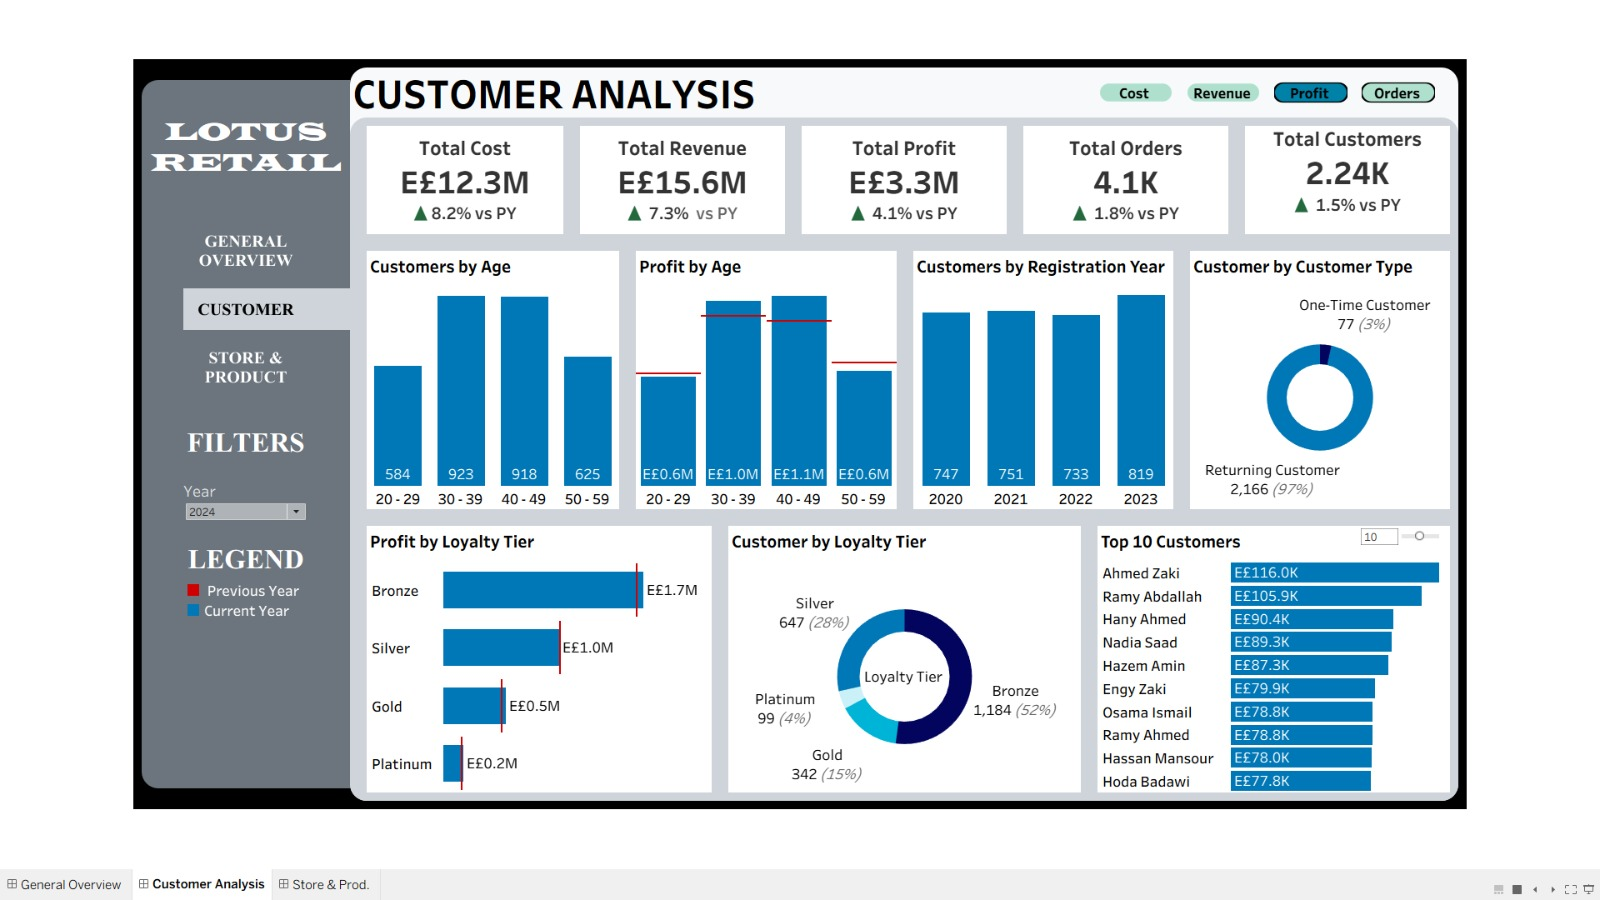

This screenshot's page, from the dashboard's own definition file:
{"tool":"tableau","page":{"name":"Customer Analysis","canvas":[1600,900],"ordinal":0},"visuals":[{"type":"text","box":[260,10,890,60]},{"type":"worksheet","title":"Buttons","mark":"Shape","cols":["Calculation_0874970443321350","Calculation_0874970443321350","Calculation_0874970443321350","Calculation_0874970443321350"],"box":[1150,10,420,60]},{"type":"blank","box":[10,25,250,10]},{"type":"text","box":[10,35,250,140]},{"type":"worksheet","title":"Cost","mark":"Automatic","box":[280,80,236,130]},{"type":"worksheet","title":"Rev.","mark":"Automatic","box":[536,80,246,130]},{"type":"worksheet","title":"Profit","mark":"Automatic","box":[802,80,246,130]},{"type":"worksheet","title":"Orders","mark":"Automatic","box":[1068,80,246,130]},{"type":"worksheet","title":"Total Customers","mark":"Automatic","box":[1334,80,246,130]},{"type":"blank","box":[10,175,250,30]},{"type":"dashboard-object","box":[60,205,150,50]},{"type":"worksheet","title":"Cus by Age","mark":"Automatic","rows":["customer_id"],"cols":["Age (bin)"],"box":[280,230,303,310]},{"type":"worksheet","title":"Age","mark":"Automatic","rows":["Calculation_0373592491970560","Calculation_0373592493252610"],"cols":["Age (bin)"],"box":[603,230,313,310]},{"type":"worksheet","title":"Customer Join Date","mark":"Bar","rows":["customer_id"],"cols":["registration_date"],"box":[936,230,312,310]},{"type":"worksheet","title":"Customer Type","mark":"Pie","cols":["Calculation_1225439418195977","Calculation_1225439418195977"],"box":[1268,230,312,310]},{"type":"blank","box":[10,255,250,20]},{"type":"dashboard-object","box":[60,275,200,50]},{"type":"blank","box":[10,325,250,20]},{"type":"dashboard-object","box":[60,345,150,50]},{"type":"blank","box":[10,395,250,50]},{"type":"text","box":[10,445,250,30]},{"type":"blank","box":[10,475,250,30]},{"type":"parameter","param":"[Parameters].[Parameter 1297182227197959]","box":[60,505,150,50]},{"type":"blank","box":[10,555,250,30]},{"type":"worksheet","title":"Loyalty Tier","mark":"Automatic","rows":["loyalty_tier"],"cols":["Calculation_0373592491970560","Calculation_0373592493252610"],"box":[280,560,414,320]},{"type":"worksheet","title":"Loyalty Tier by Cus.","mark":"Pie","rows":["Calculation_1225439412301825","Calculation_1225439412301825"],"box":[714,560,423,320]},{"type":"worksheet","title":"Top Customers","mark":"Automatic","rows":["full_name"],"cols":["Calculation_1297182227521545"],"box":[1157,560,423,320]},{"type":"parameter","param":"[Parameters].[Parameter 1225439415734277]","box":[1470,560,100,35]},{"type":"text","box":[10,585,250,30]},{"type":"blank","box":[10,615,250,10]},{"type":"legend","title":"Loyalty Tier","param":"[federated.0mt75gr1jol0vg19zrq0202gwl9p].[:Measure Names]","box":[60,625,150,50]}]}

Visuals, with their boxes on the page's 1600x900 design canvas (x1, y1, x2, y2). These are canvas units, not pixel positions in the 1600x900 screenshot, which may show the page scaled, cropped or inside an application window:
text: [260,10,1150,70]
"Buttons" worksheet (Shape marks): [1150,10,1570,70]
blank: [10,25,260,35]
text: [10,35,260,175]
"Cost" worksheet: [280,80,516,210]
"Rev." worksheet: [536,80,782,210]
"Profit" worksheet: [802,80,1048,210]
"Orders" worksheet: [1068,80,1314,210]
"Total Customers" worksheet: [1334,80,1580,210]
blank: [10,175,260,205]
dashboard-object: [60,205,210,255]
"Cus by Age" worksheet: [280,230,583,540]
"Age" worksheet: [603,230,916,540]
"Customer Join Date" worksheet (Bar marks): [936,230,1248,540]
"Customer Type" worksheet (Pie marks): [1268,230,1580,540]
blank: [10,255,260,275]
dashboard-object: [60,275,260,325]
blank: [10,325,260,345]
dashboard-object: [60,345,210,395]
blank: [10,395,260,445]
text: [10,445,260,475]
blank: [10,475,260,505]
parameter: [60,505,210,555]
blank: [10,555,260,585]
"Loyalty Tier" worksheet: [280,560,694,880]
"Loyalty Tier by Cus." worksheet (Pie marks): [714,560,1137,880]
"Top Customers" worksheet: [1157,560,1580,880]
parameter: [1470,560,1570,595]
text: [10,585,260,615]
blank: [10,615,260,625]
"Loyalty Tier" legend: [60,625,210,675]
